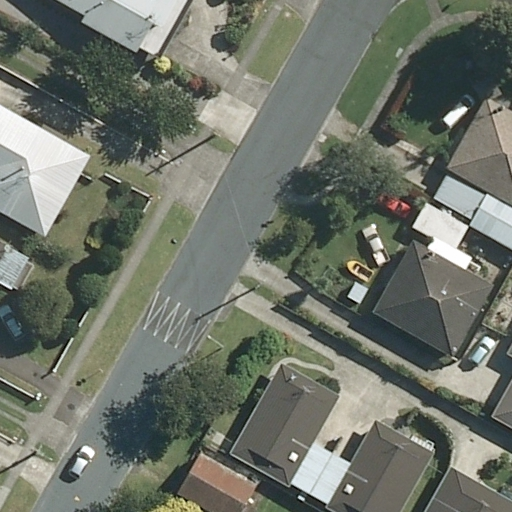DT: (205, 124, 224, 147), (247, 276, 266, 299)
